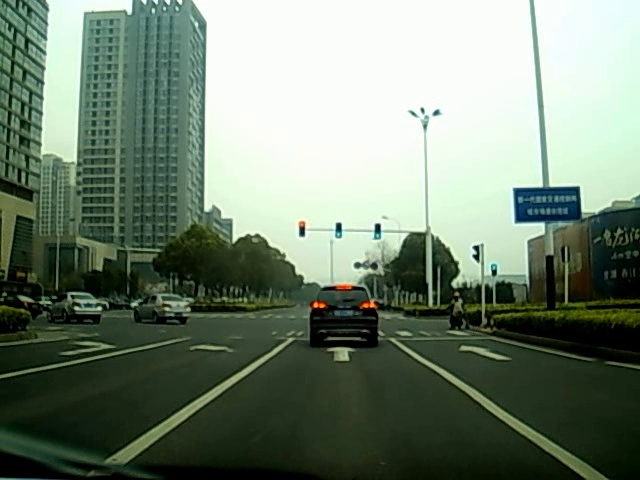Traffic_Light_go: (335, 224, 343, 238), (374, 225, 381, 240)
Traffic_Light_stop: (298, 221, 305, 237)
